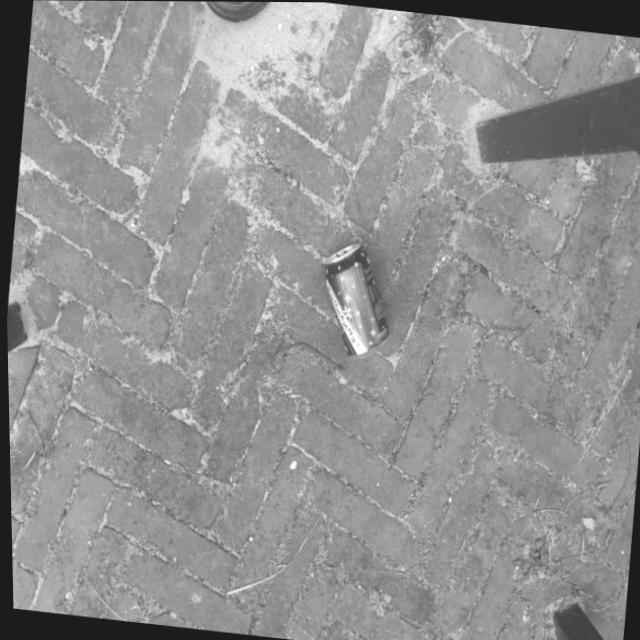Can-Metal: (189, 117, 293, 226)
